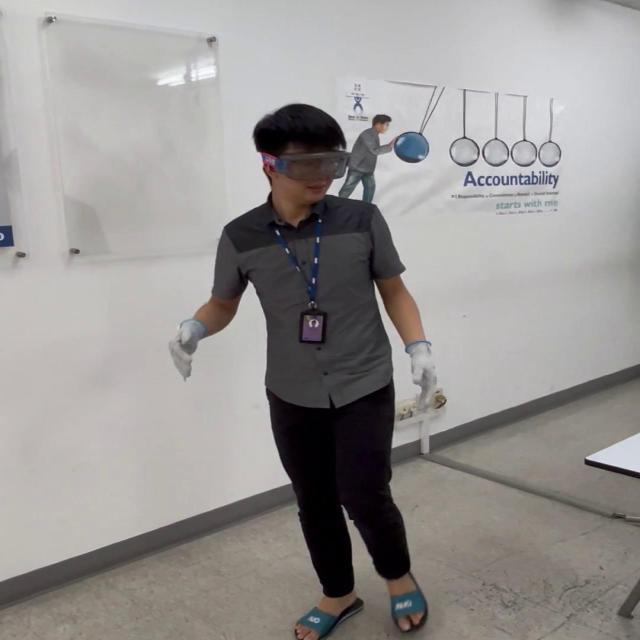gloved_hand: (392, 344, 447, 425), (172, 314, 210, 380)
